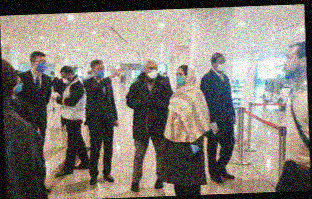with_mask: (11, 78, 23, 96), (145, 65, 159, 80), (34, 57, 47, 73), (94, 64, 106, 79), (175, 71, 186, 85), (215, 58, 226, 72), (59, 74, 71, 84)
without_mask: (281, 51, 299, 79)
